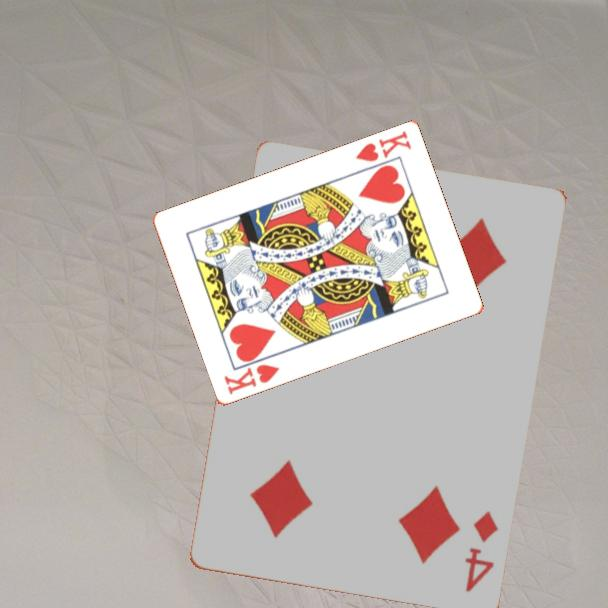d04: (461, 508, 502, 596)
h13: (352, 127, 414, 165), (220, 361, 283, 398)
